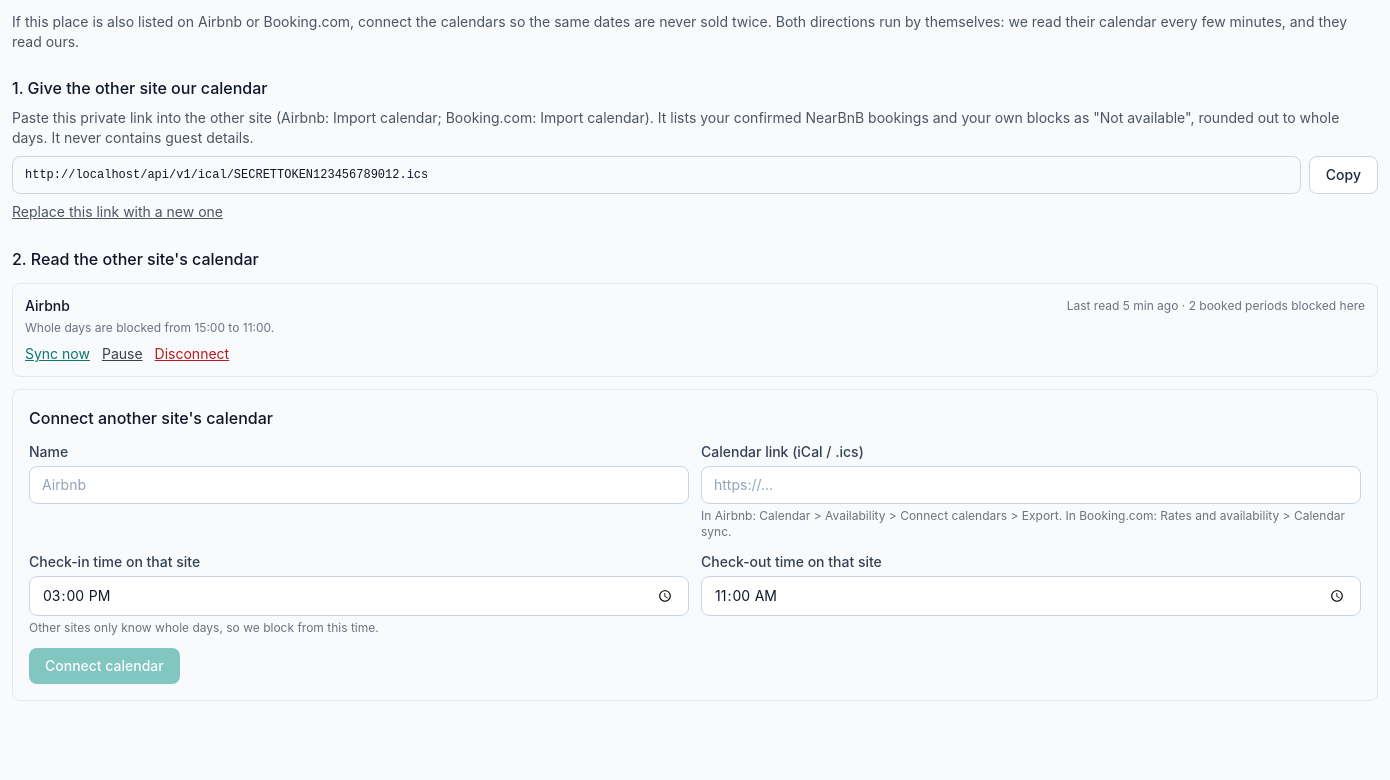
Scenario: calendar sync for a unit › shows our private link to paste into the other site, and copies it
Expected: the text "never contains guest details" is shown, [12,109,1339,146]
Click the button "Copy" at coordinates (1343, 175), box [1309,156,1378,194]
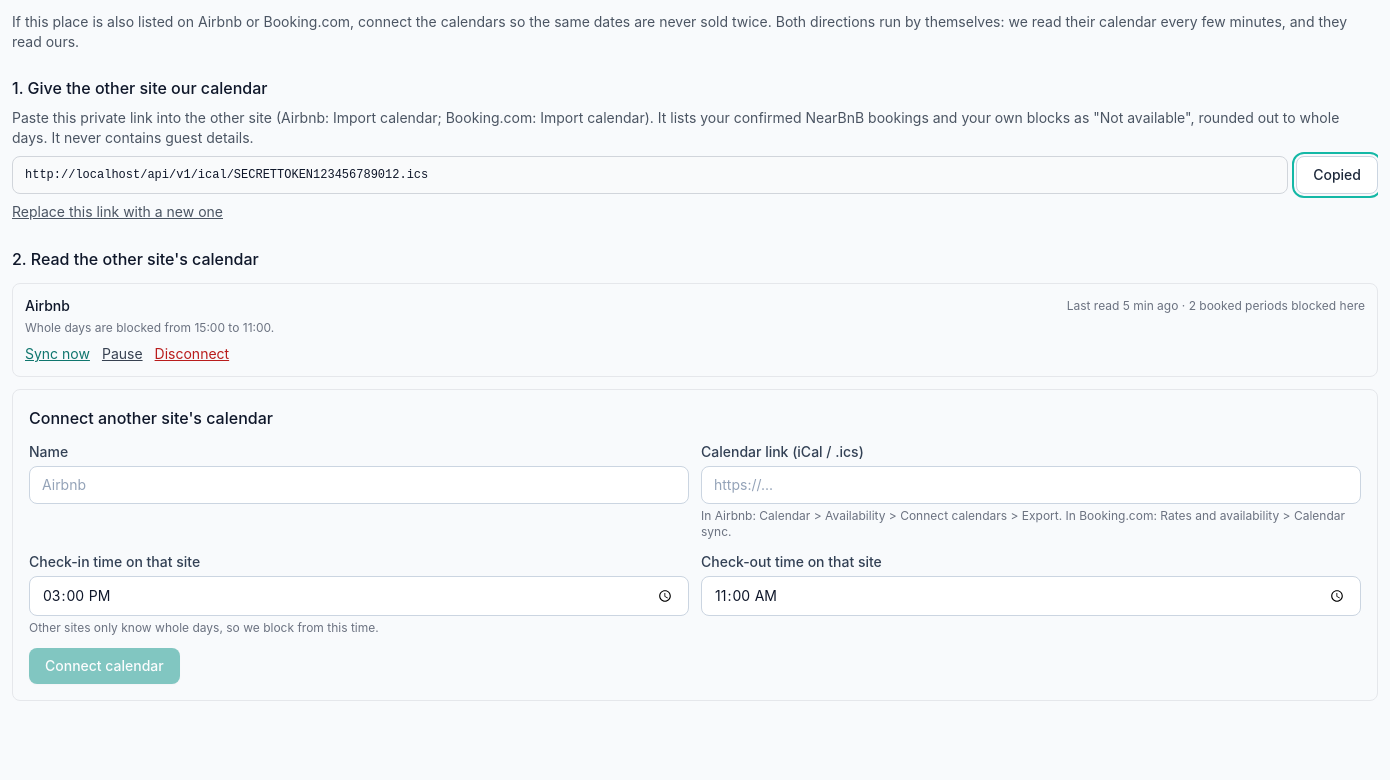
Expected: the button "Copied" is shown, [1296,156,1378,194]
